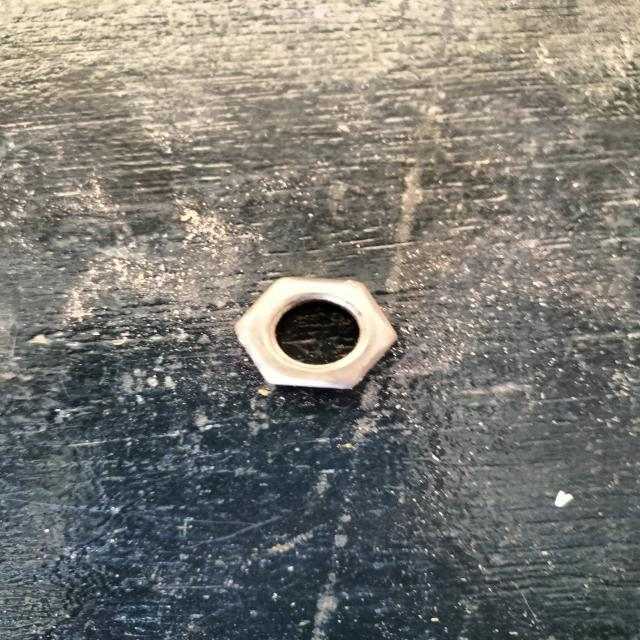nuts: (234, 278, 399, 388)
